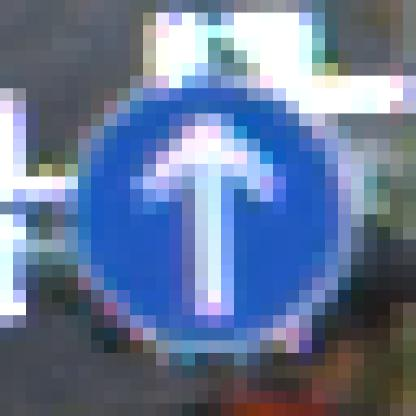AheadOnly: (66, 64, 352, 354)
